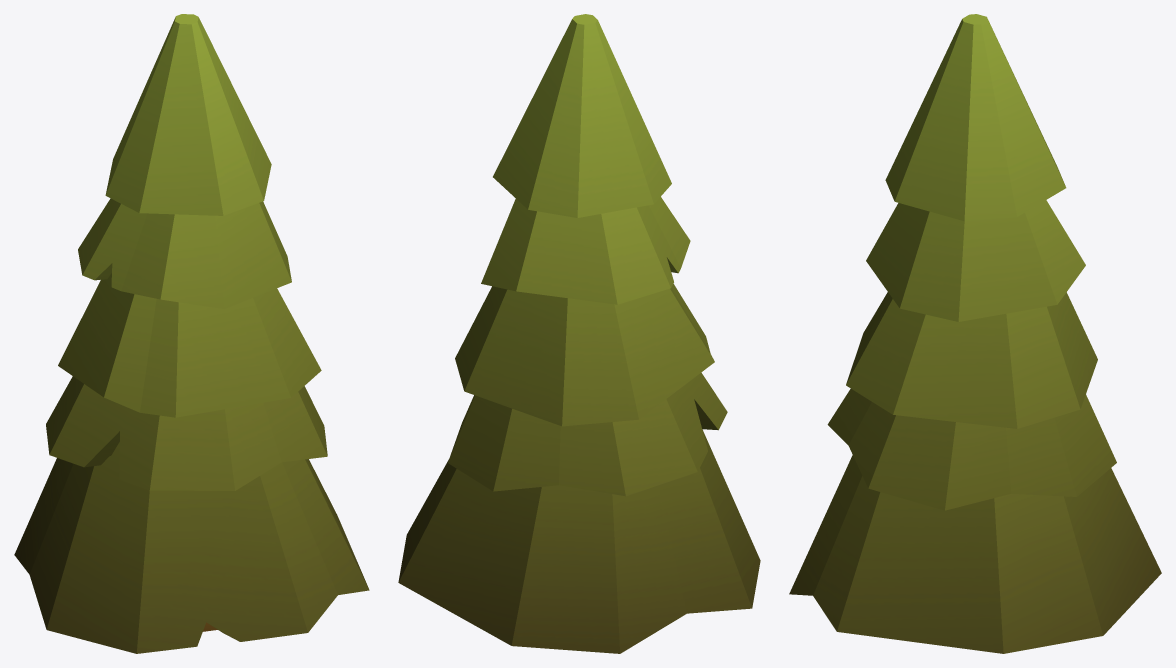
File: treeMediumSOLO2.fbx
The picture shows the model from 3 angles, left to right: view 1: azimuth 30°, elevation 25°; view 2: azimuth 150°, elevation 25°; view 3: azimuth 270°, elevation 25°; orthographic projection.
Parts seen in each view (by area): view 1: Cube.011; view 2: Cube.011; view 3: Cube.011.
Part boxes in pixels (bbox=[...]): Cube.011: bbox=[14, 14, 369, 653]; Cube.011: bbox=[398, 14, 760, 653]; Cube.011: bbox=[789, 14, 1161, 653].
Bounding box in the file's own units: 206 × 371 × 206.
